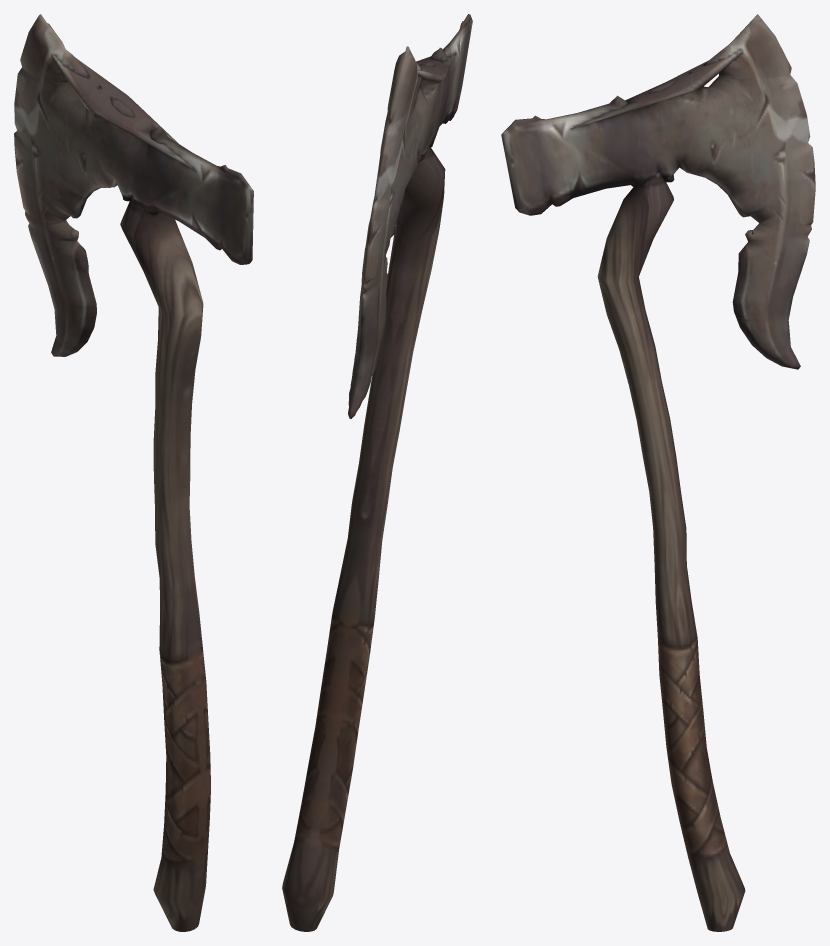
File: axe.glb
The picture shows the model from 3 angles, left to right: view 1: azimuth 30°, elevation 25°; view 2: azimuth 150°, elevation 25°; view 3: azimuth 270°, elevation 25°; orthographic projection. The views are drawn at different scales.
Parts seen in each view (by area): view 1: axe_grip1; view 2: axe_grip1; view 3: axe_grip1.
Part boxes in pixels (x1,y1,x2,y2): axe_grip1: [14, 14, 253, 931]; axe_grip1: [282, 14, 472, 931]; axe_grip1: [501, 14, 815, 931].
Bounding box in the file's own units: 0.1178 × 0.7035 × 0.2336.
Materials: 1 (1 with a texture image).
